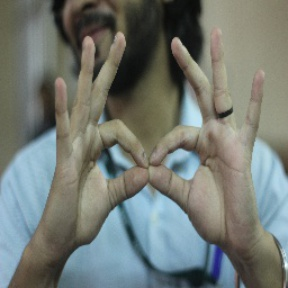B: (89, 117, 215, 208)
